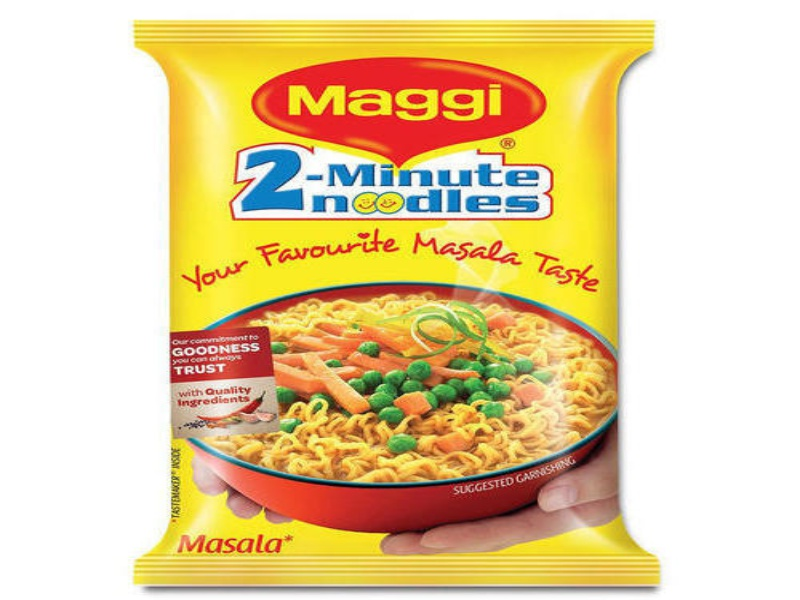maggi: (120, 16, 669, 596)
